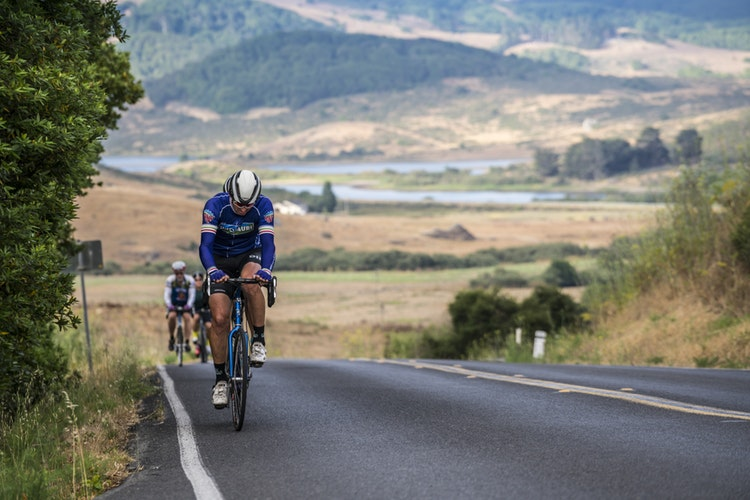helmet: (221, 169, 268, 215)
